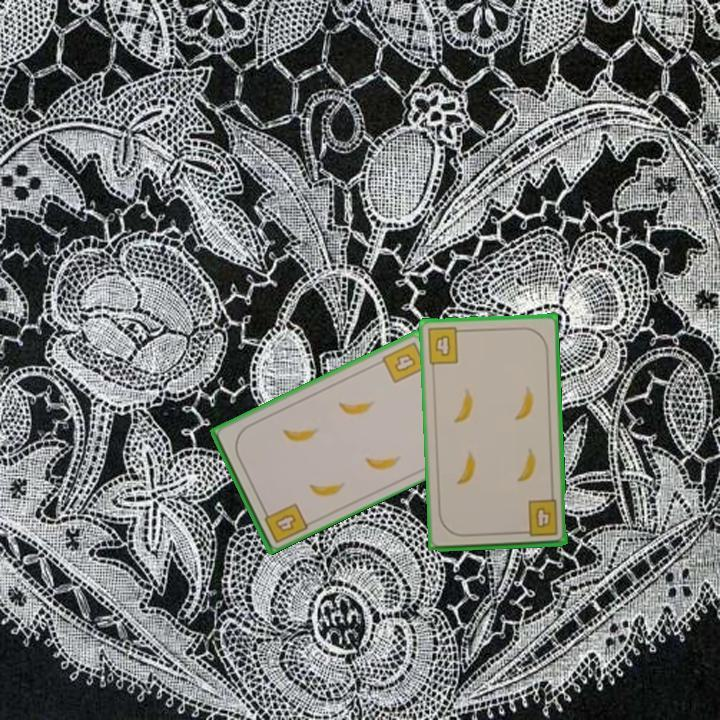4b: (379, 338, 430, 386), (259, 499, 310, 546), (423, 324, 467, 367), (517, 497, 561, 540)
